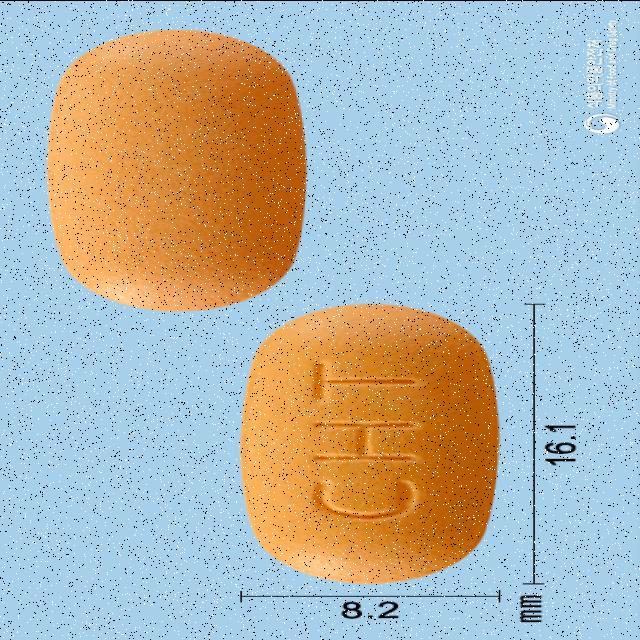Croracin: (239, 302, 497, 582)
